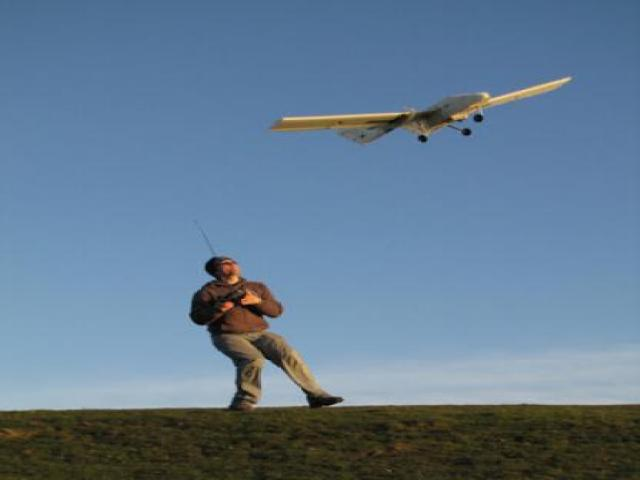uav: (264, 70, 576, 146)
